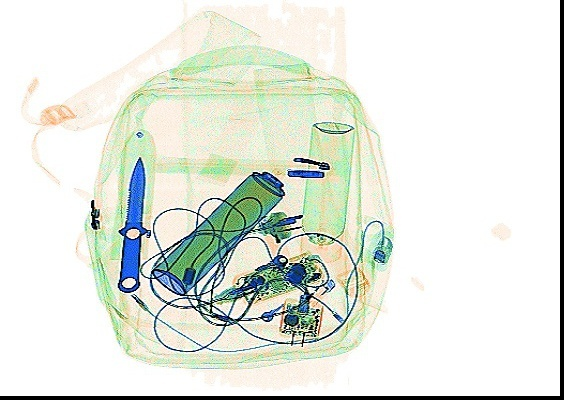knife: (113, 152, 149, 292)
lighter: (251, 206, 292, 271), (289, 275, 336, 321)
pressure: (147, 164, 286, 297), (295, 118, 355, 264)
